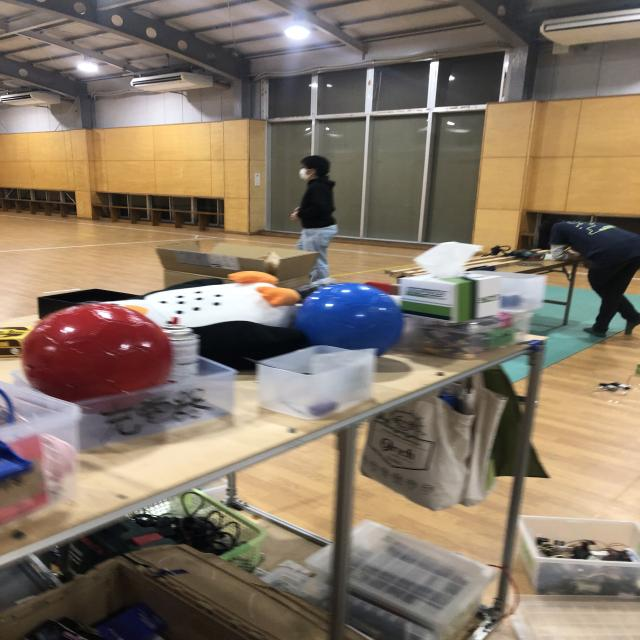blue_ball: (292, 281, 405, 357)
red_ball: (23, 302, 174, 409)
